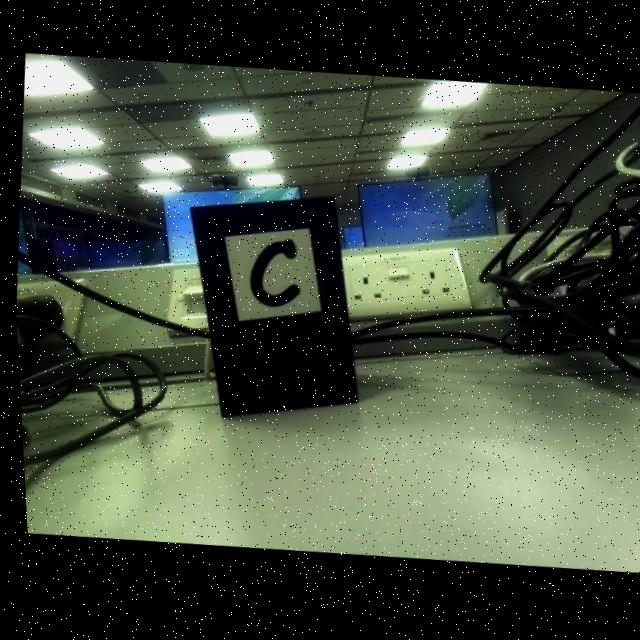C: (246, 240, 296, 308)
